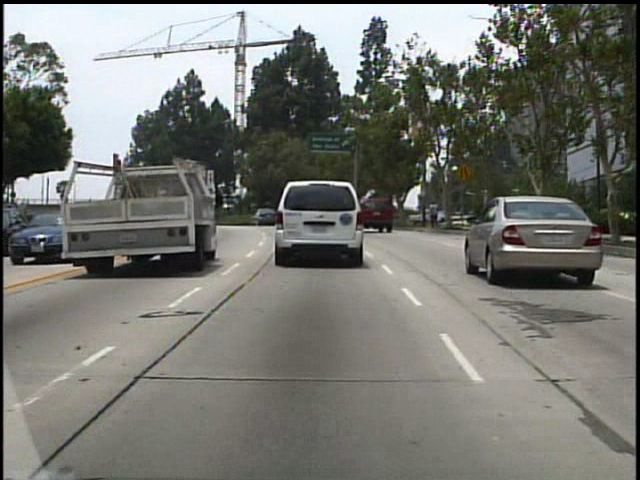person: (428, 195, 442, 229)
